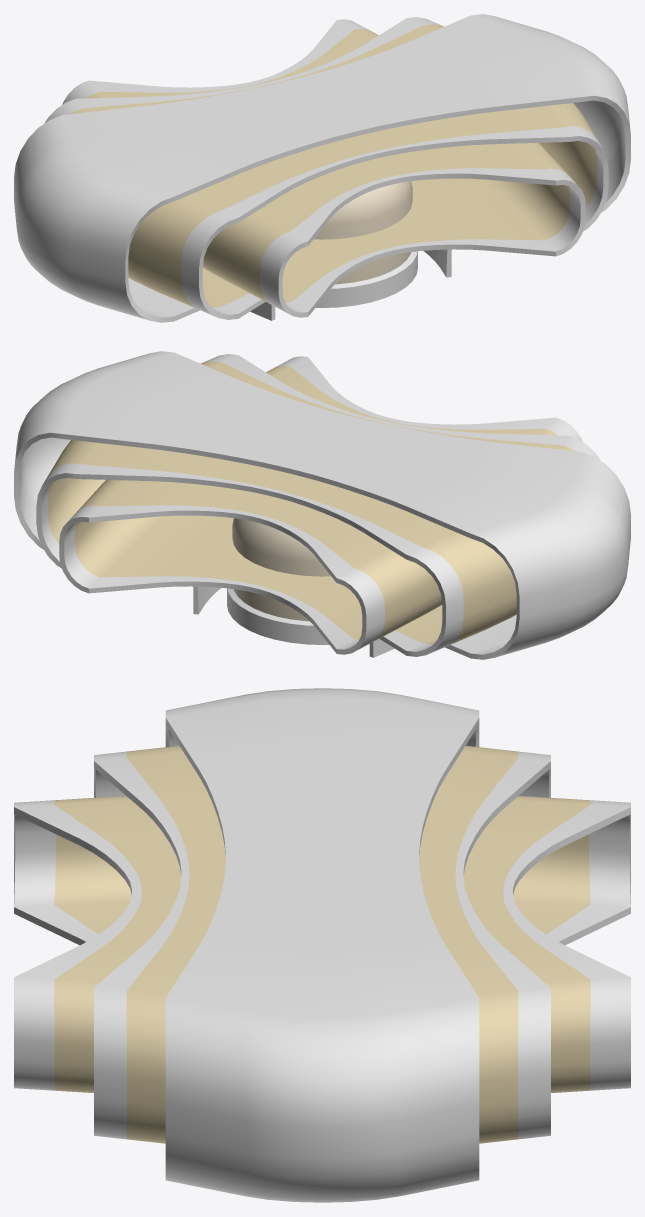
File: lamp.fbx
3 renders of one model, top to bottom at view 1: azimuth 30°, elevation 25°; view 2: azimuth 150°, elevation 25°; view 3: azimuth 270°, elevation 25°, orthographic. The views are drawn at different scales.
Parts seen in each view (by area): view 1: lamp.wall.003; view 2: lamp.wall.003; view 3: lamp.wall.003.
Boxes of the visible parts, left/top/right/bottom form: lamp.wall.003: left=14, top=14, right=630, bottom=322; lamp.wall.003: left=14, top=351, right=630, bottom=659; lamp.wall.003: left=14, top=688, right=630, bottom=1202.
Bounding box in the file's own units: 74.1 × 20.13 × 48.74.
